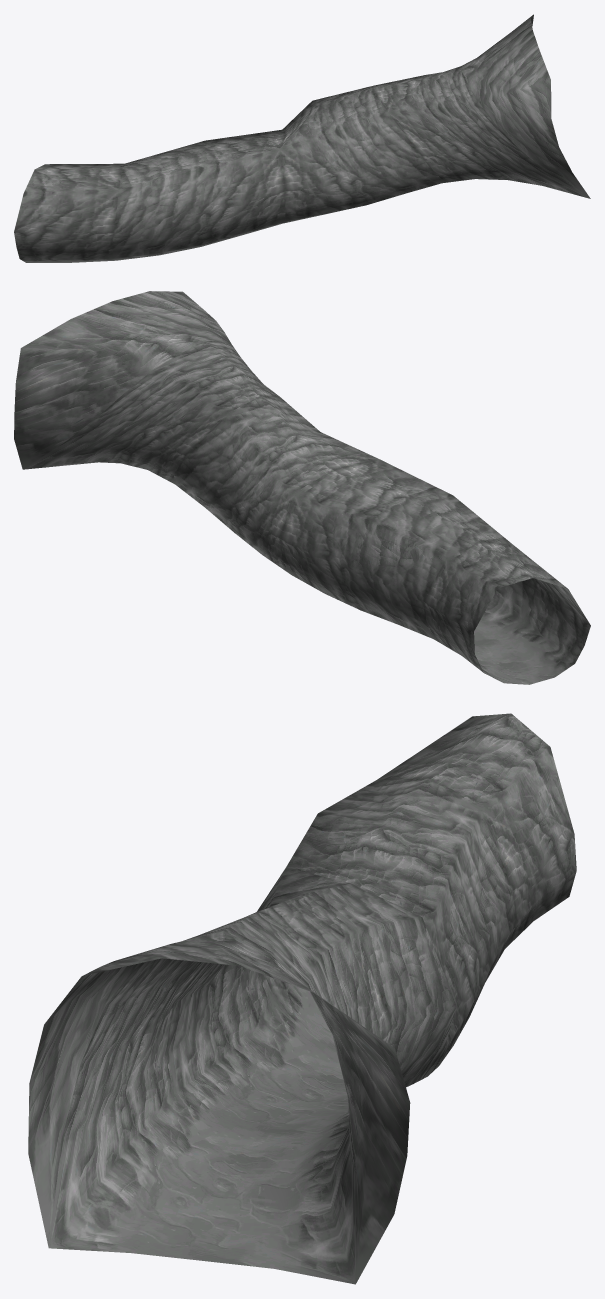
File: SWORDLIGHT20_PS-AREA03-05TRANS_03.fbx
The picture shows the model from 3 angles, top to bottom: view 1: azimuth 30°, elevation 25°; view 2: azimuth 150°, elevation 25°; view 3: azimuth 270°, elevation 25°; orthographic projection. The views are drawn at different scales.
Visible parts, largest first — view 1: SWORDLIGHT20_PS-AREA03-05TRANS_03; view 2: SWORDLIGHT20_PS-AREA03-05TRANS_03; view 3: SWORDLIGHT20_PS-AREA03-05TRANS_03.
Part boxes in pixels (left/top/right/bottom): SWORDLIGHT20_PS-AREA03-05TRANS_03: left=14, top=14, right=590, bottom=262; SWORDLIGHT20_PS-AREA03-05TRANS_03: left=14, top=291, right=590, bottom=684; SWORDLIGHT20_PS-AREA03-05TRANS_03: left=28, top=713, right=576, bottom=1284.
Size of the model in its own units: 163273 by 53059 by 75463.
2 materials, 2 textured.
